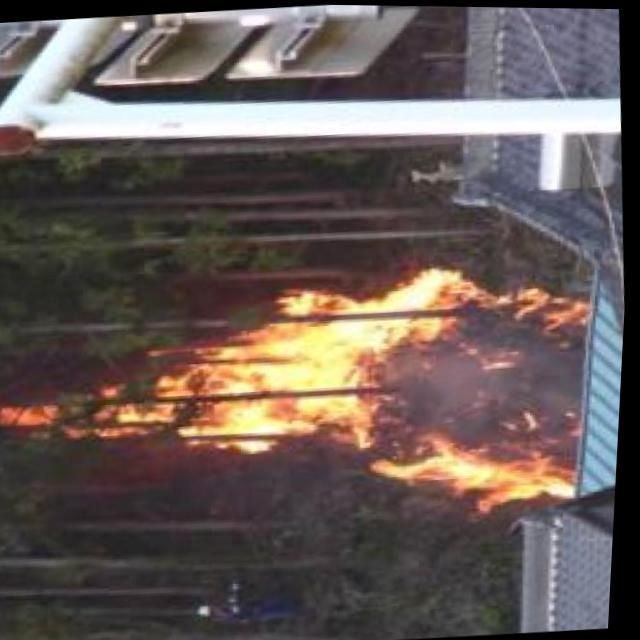fire: (36, 258, 604, 530)
